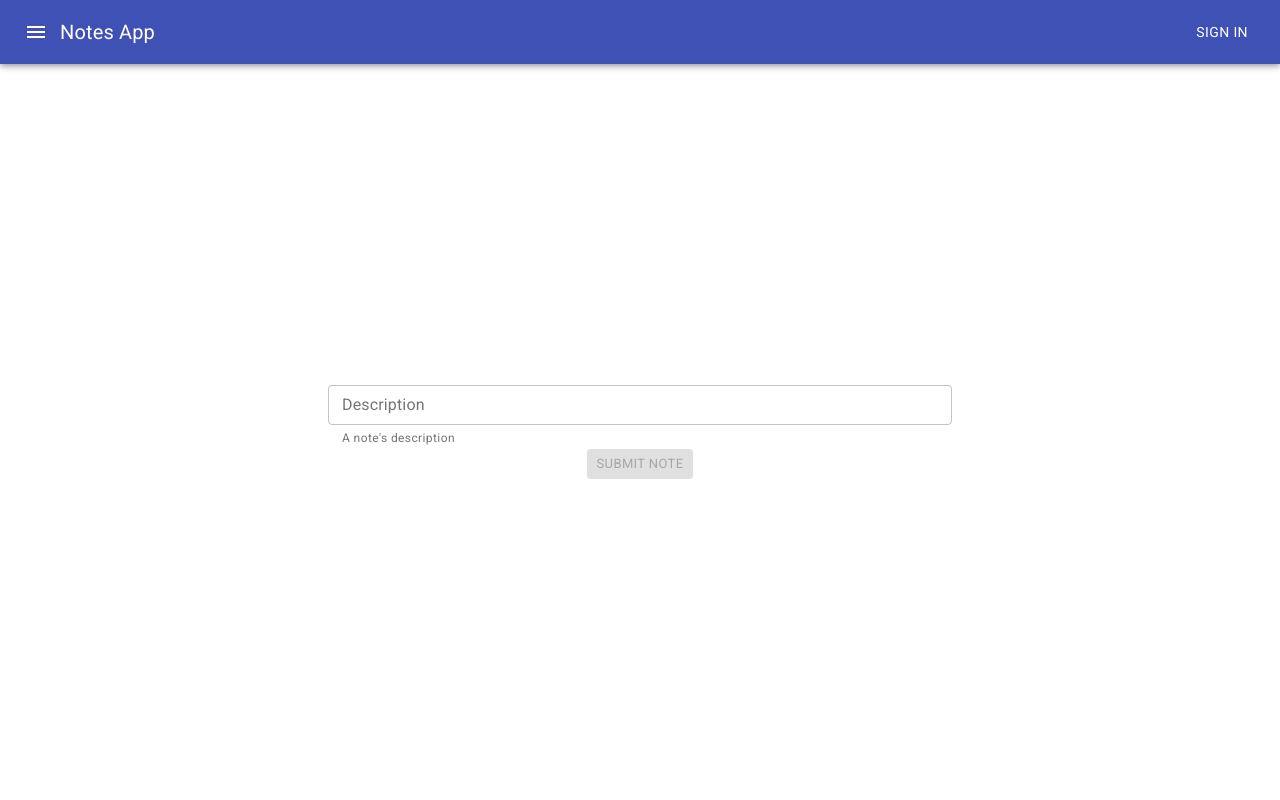
it: Home page e2e test › should show a success message when submitting a note
Type "My first note" into the field with id "description" at x=640, y=405, box [328,385,952,425]
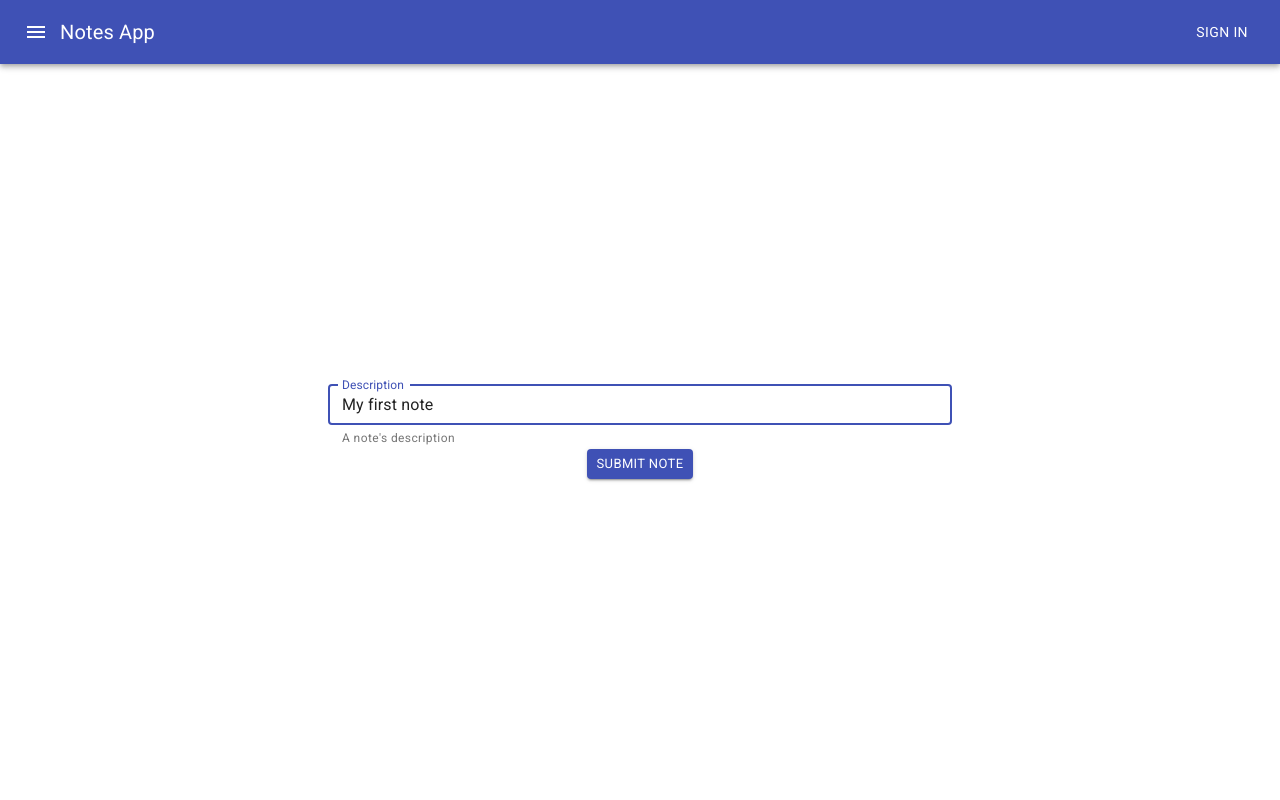
Click the button with id "submit-note" at x=641, y=465, box [587,449,694,480]
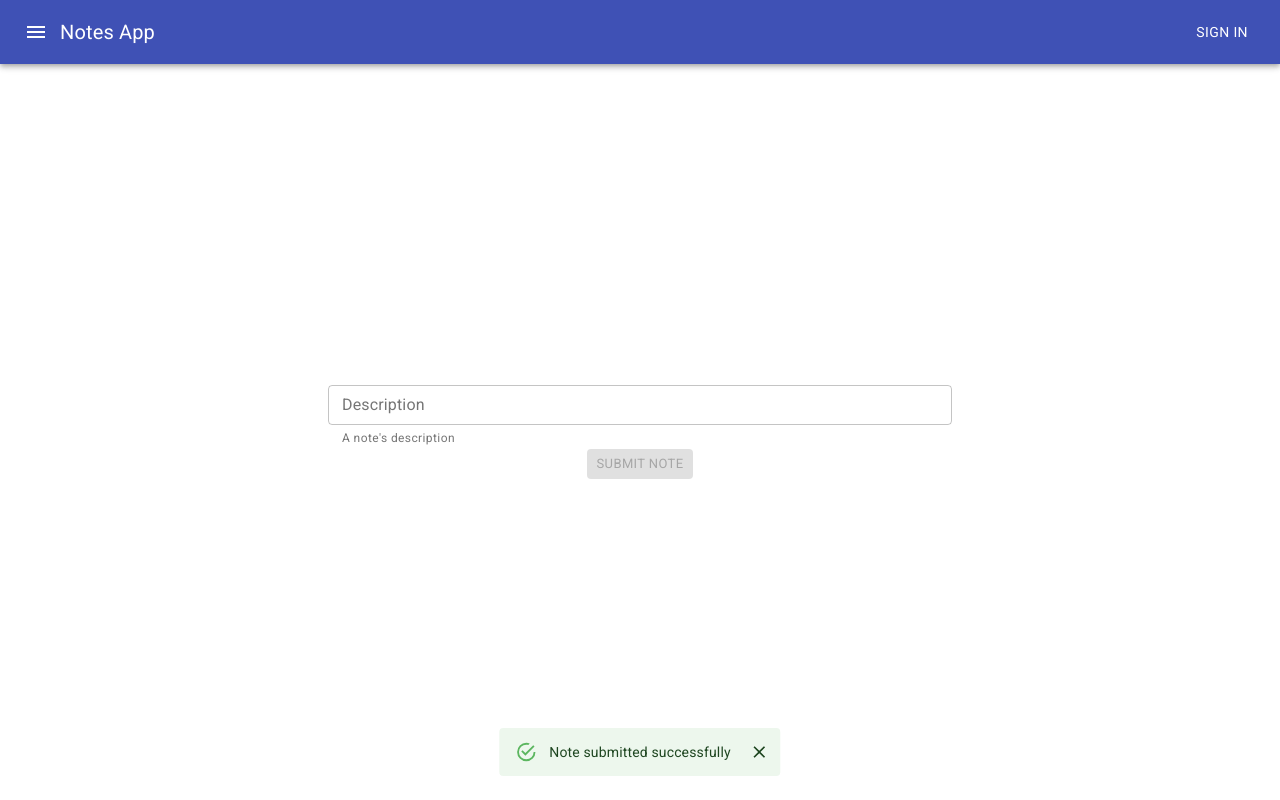
Expected: the message "Note submitted successfully" is shown, [499,728,781,776]
